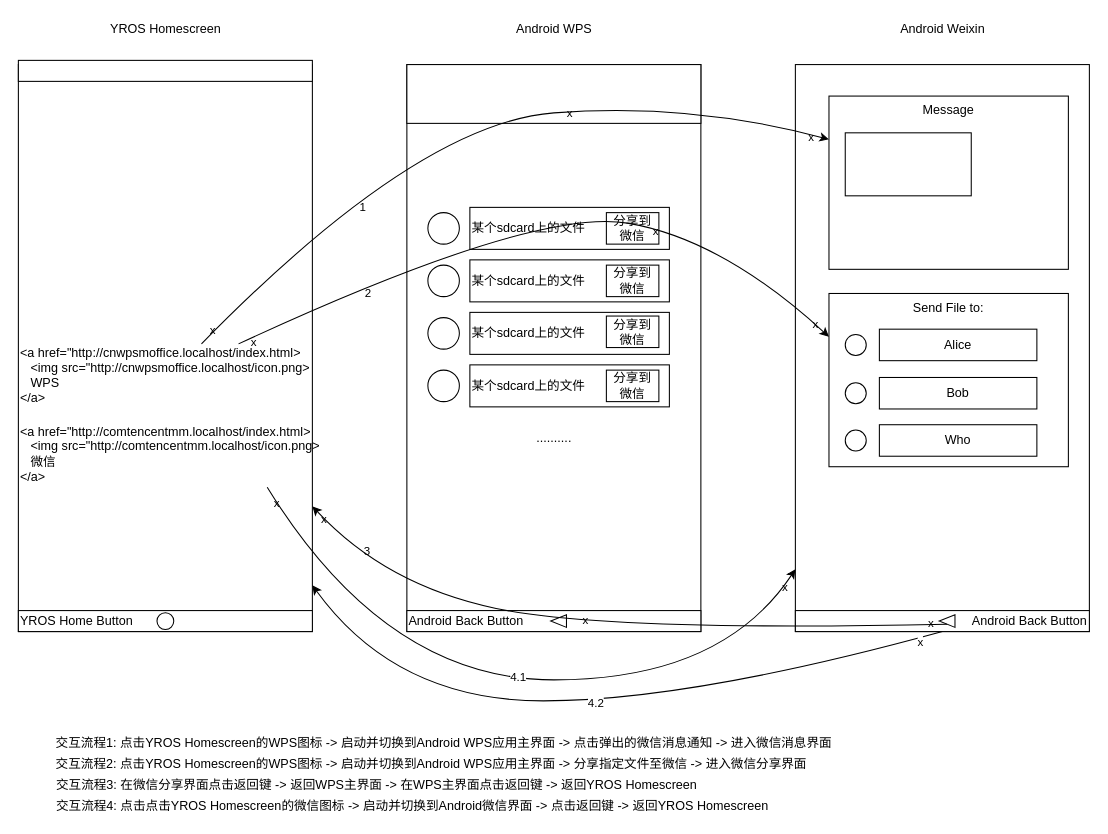
This 1108x834 diagram has some shape labels left out. The shapes that lost their labels are listed below. From the top down, each one's centre as x and y in pixels, then its label:
pixel 164 70: YROS 状态栏
pixel 553 93: 弹出式通知 of 微信： Who：blah blah blah
pixel 907 164: Who: Blah blah blah
